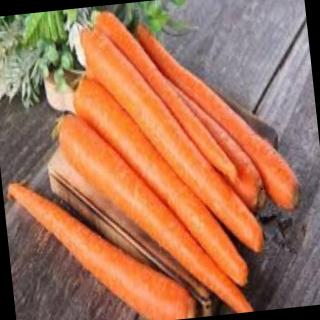Wortel: (77, 7, 267, 270), (54, 96, 255, 320), (71, 64, 250, 300), (7, 162, 198, 320)
